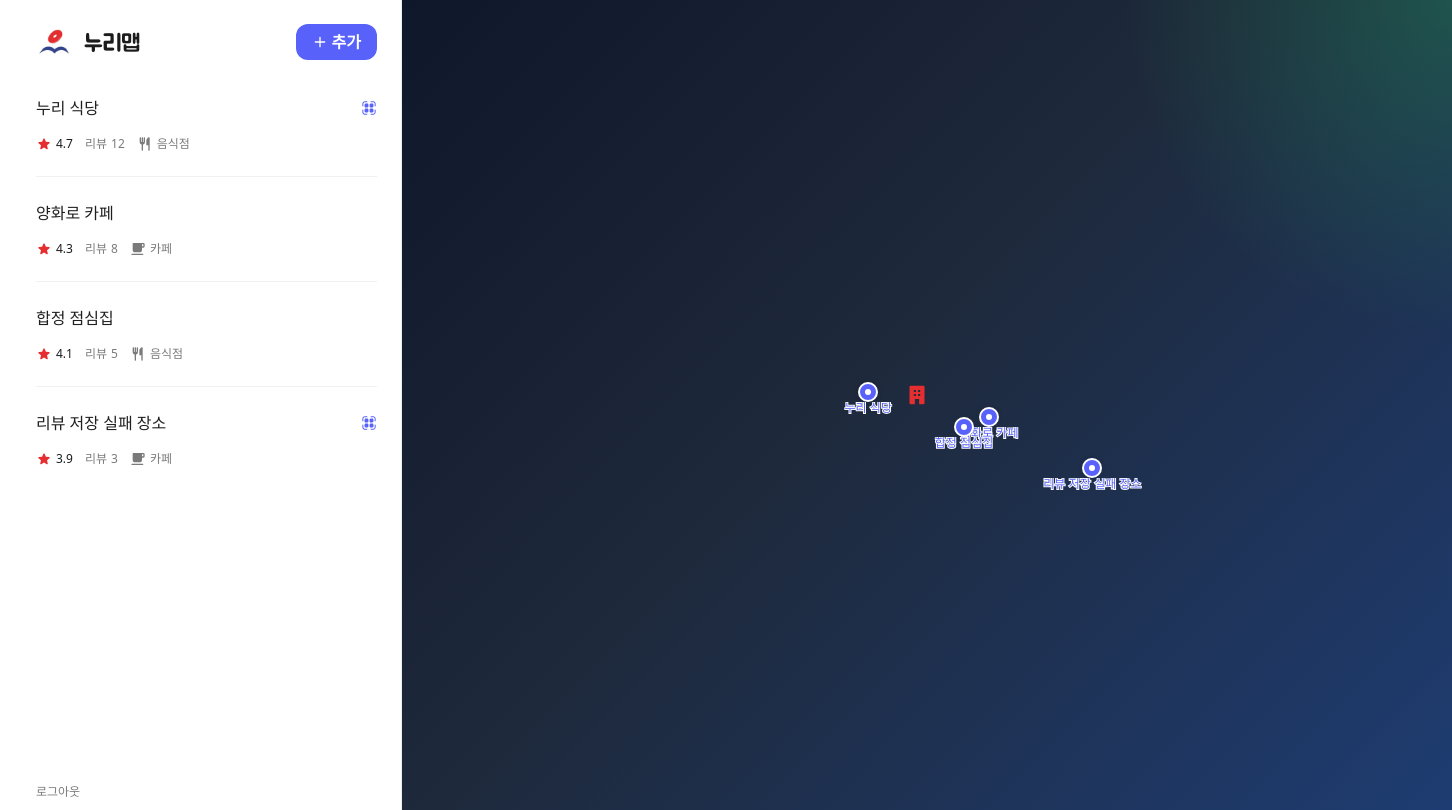
Nurimap browse › opens the detail flow when a desktop list item is selected
What coordinates should you click on to do the following:
click the button with test id "place-list-item-place-restaurant-2"
I would click on:
 (75, 318)
Its box is [12,286,401,382].
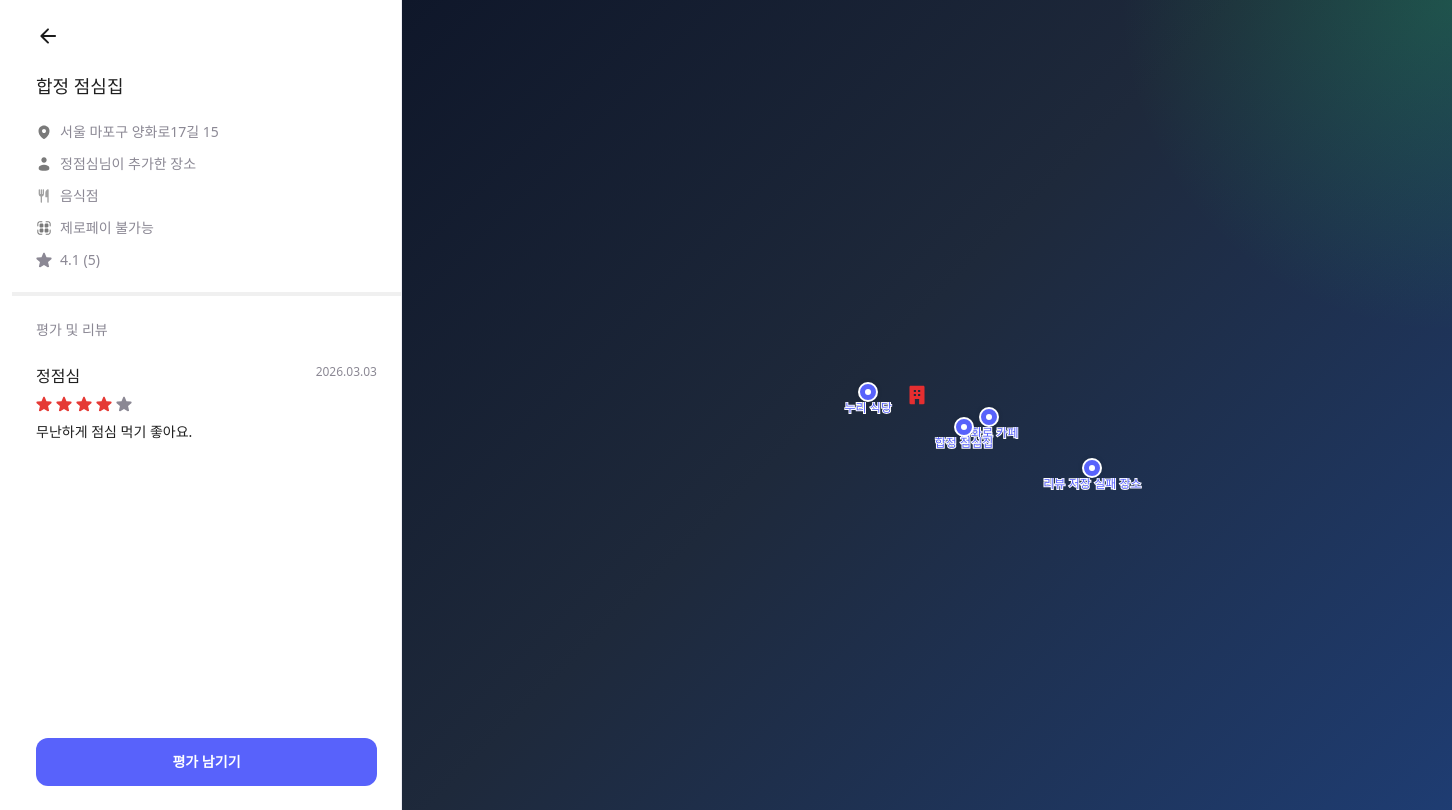
Now the element with test id "desktop-detail-panel" shows "합정 점심집", box [36,74,124,98]
Now the button named "목록으로 돌아가기" is shown, box [36,24,60,48]
